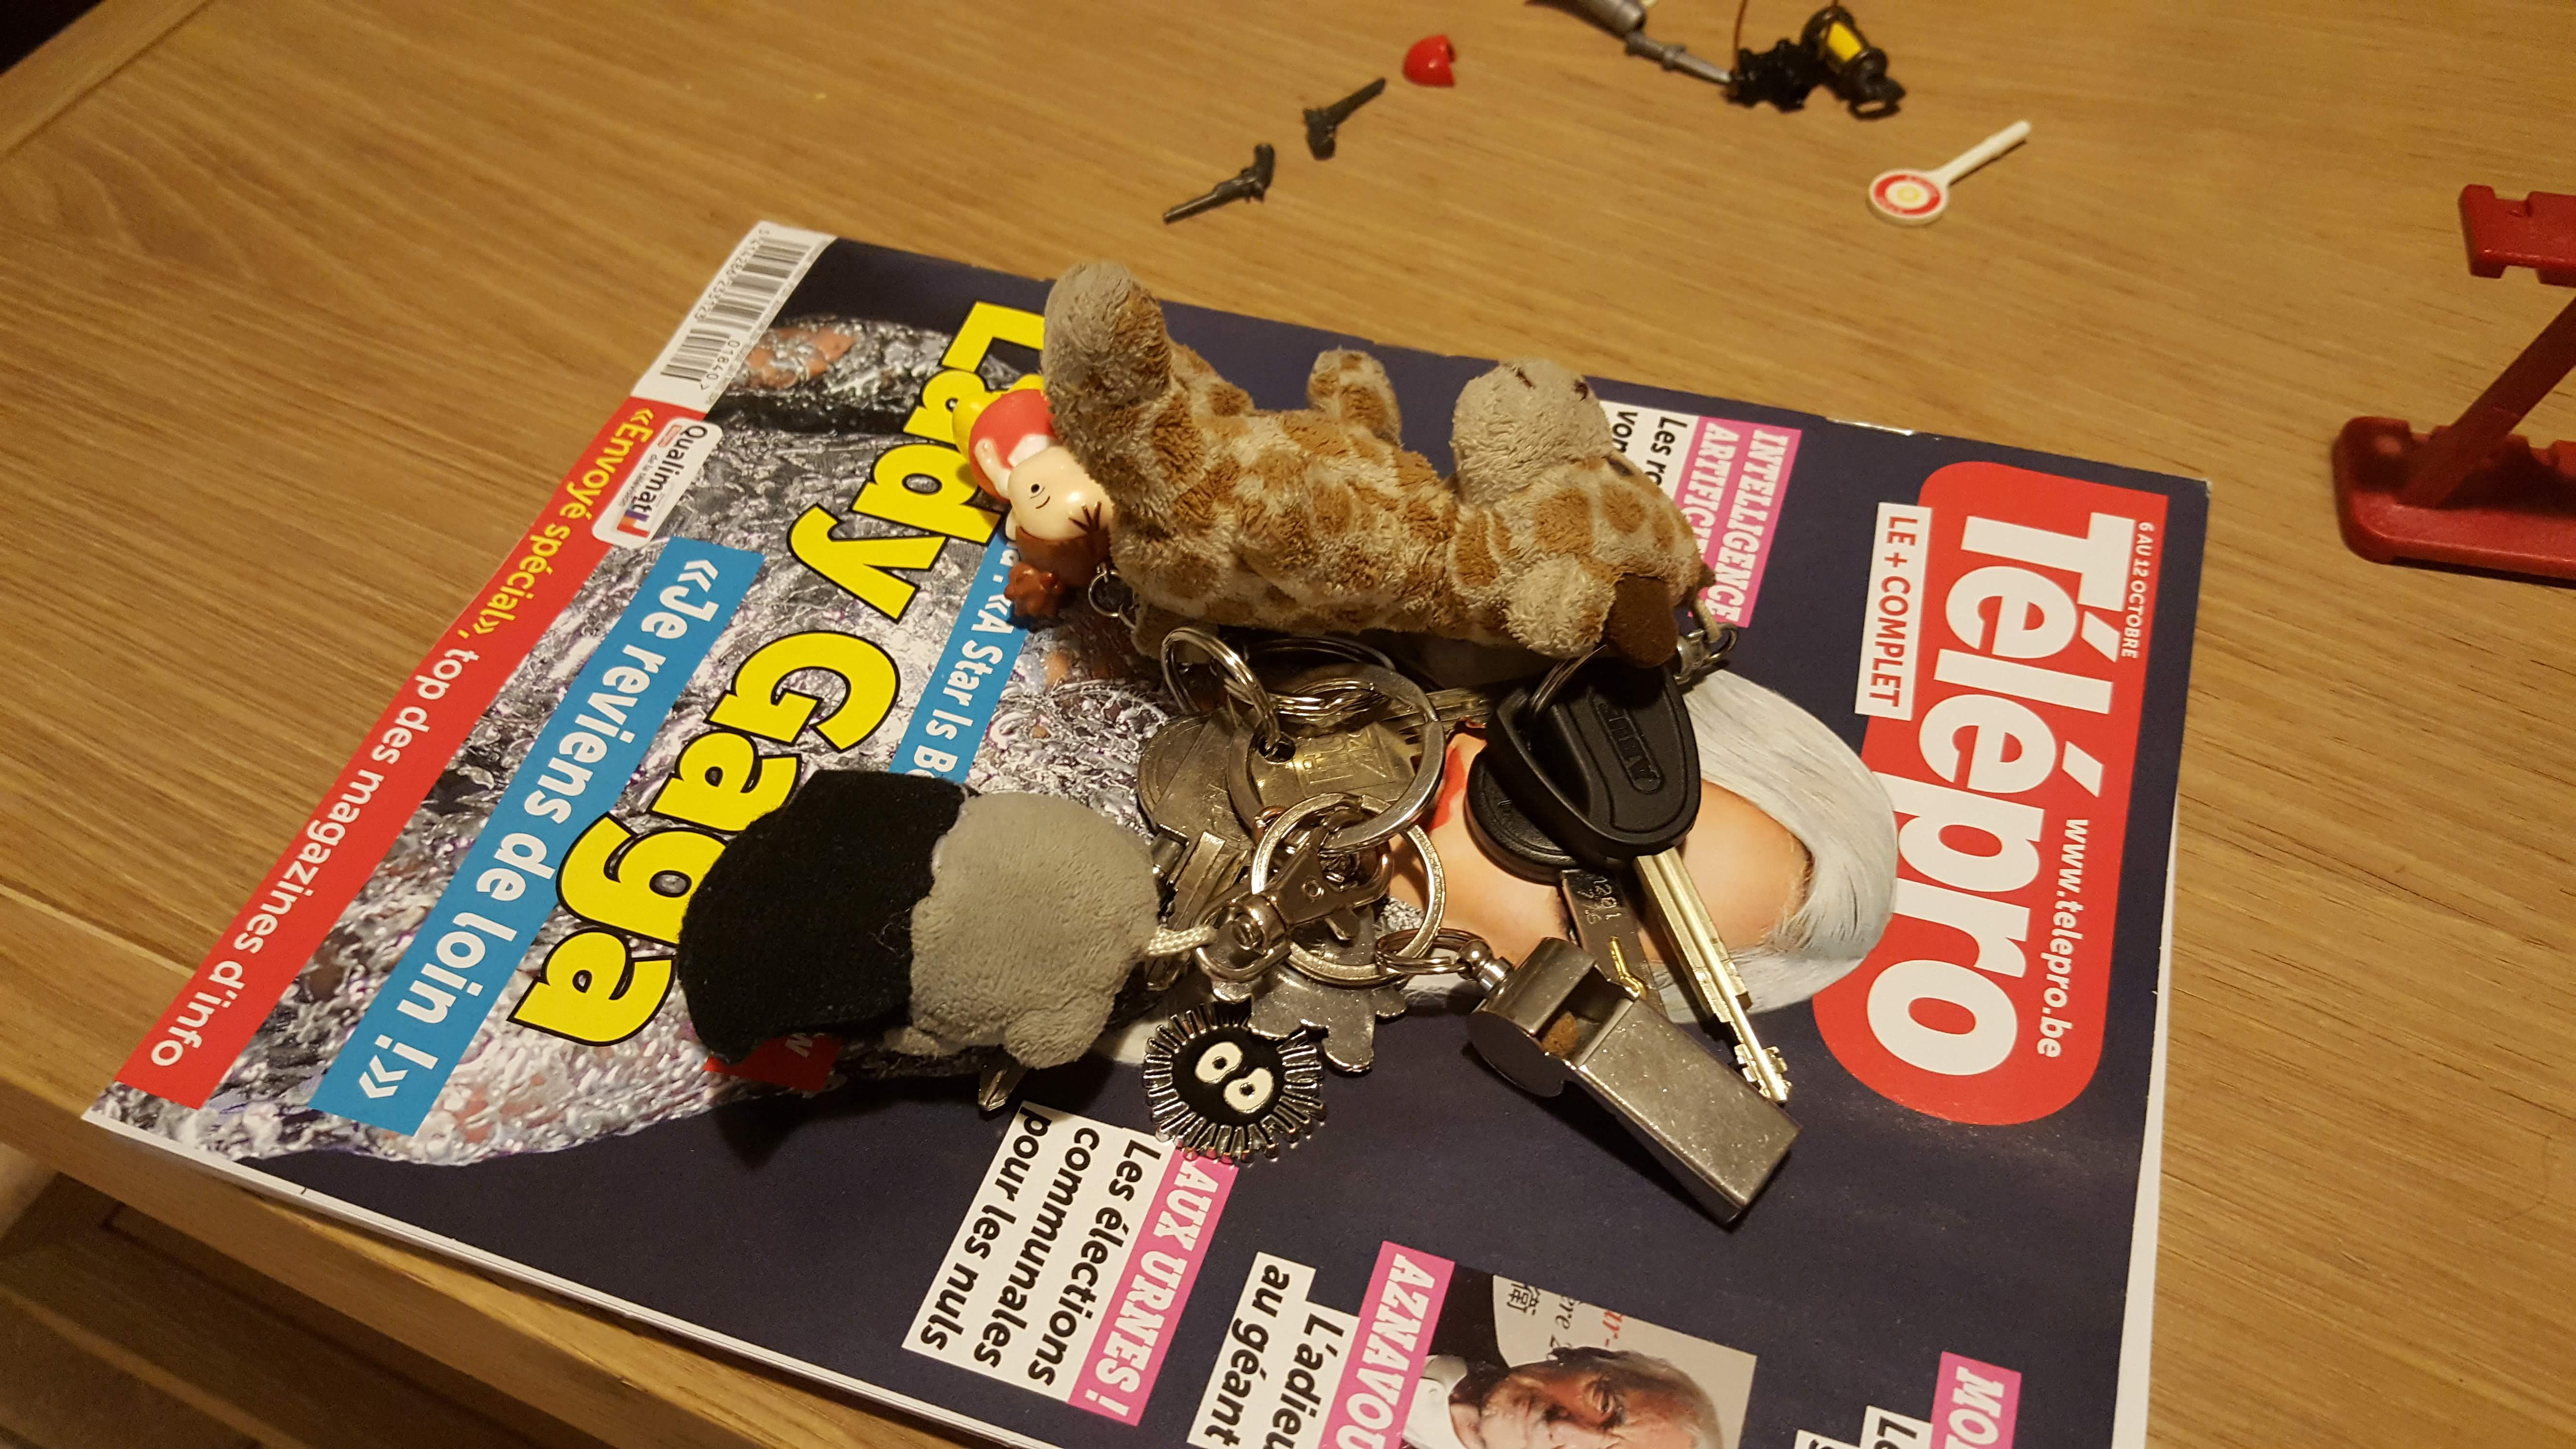key: (1123, 692, 1276, 998)
